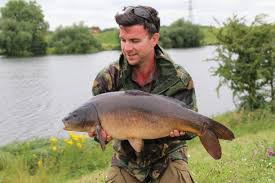carp: (61, 89, 235, 162)
